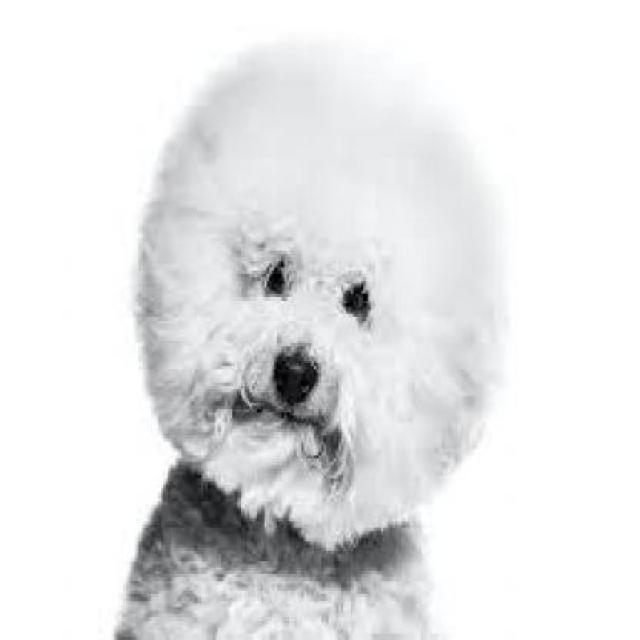animals: (82, 27, 508, 618)
